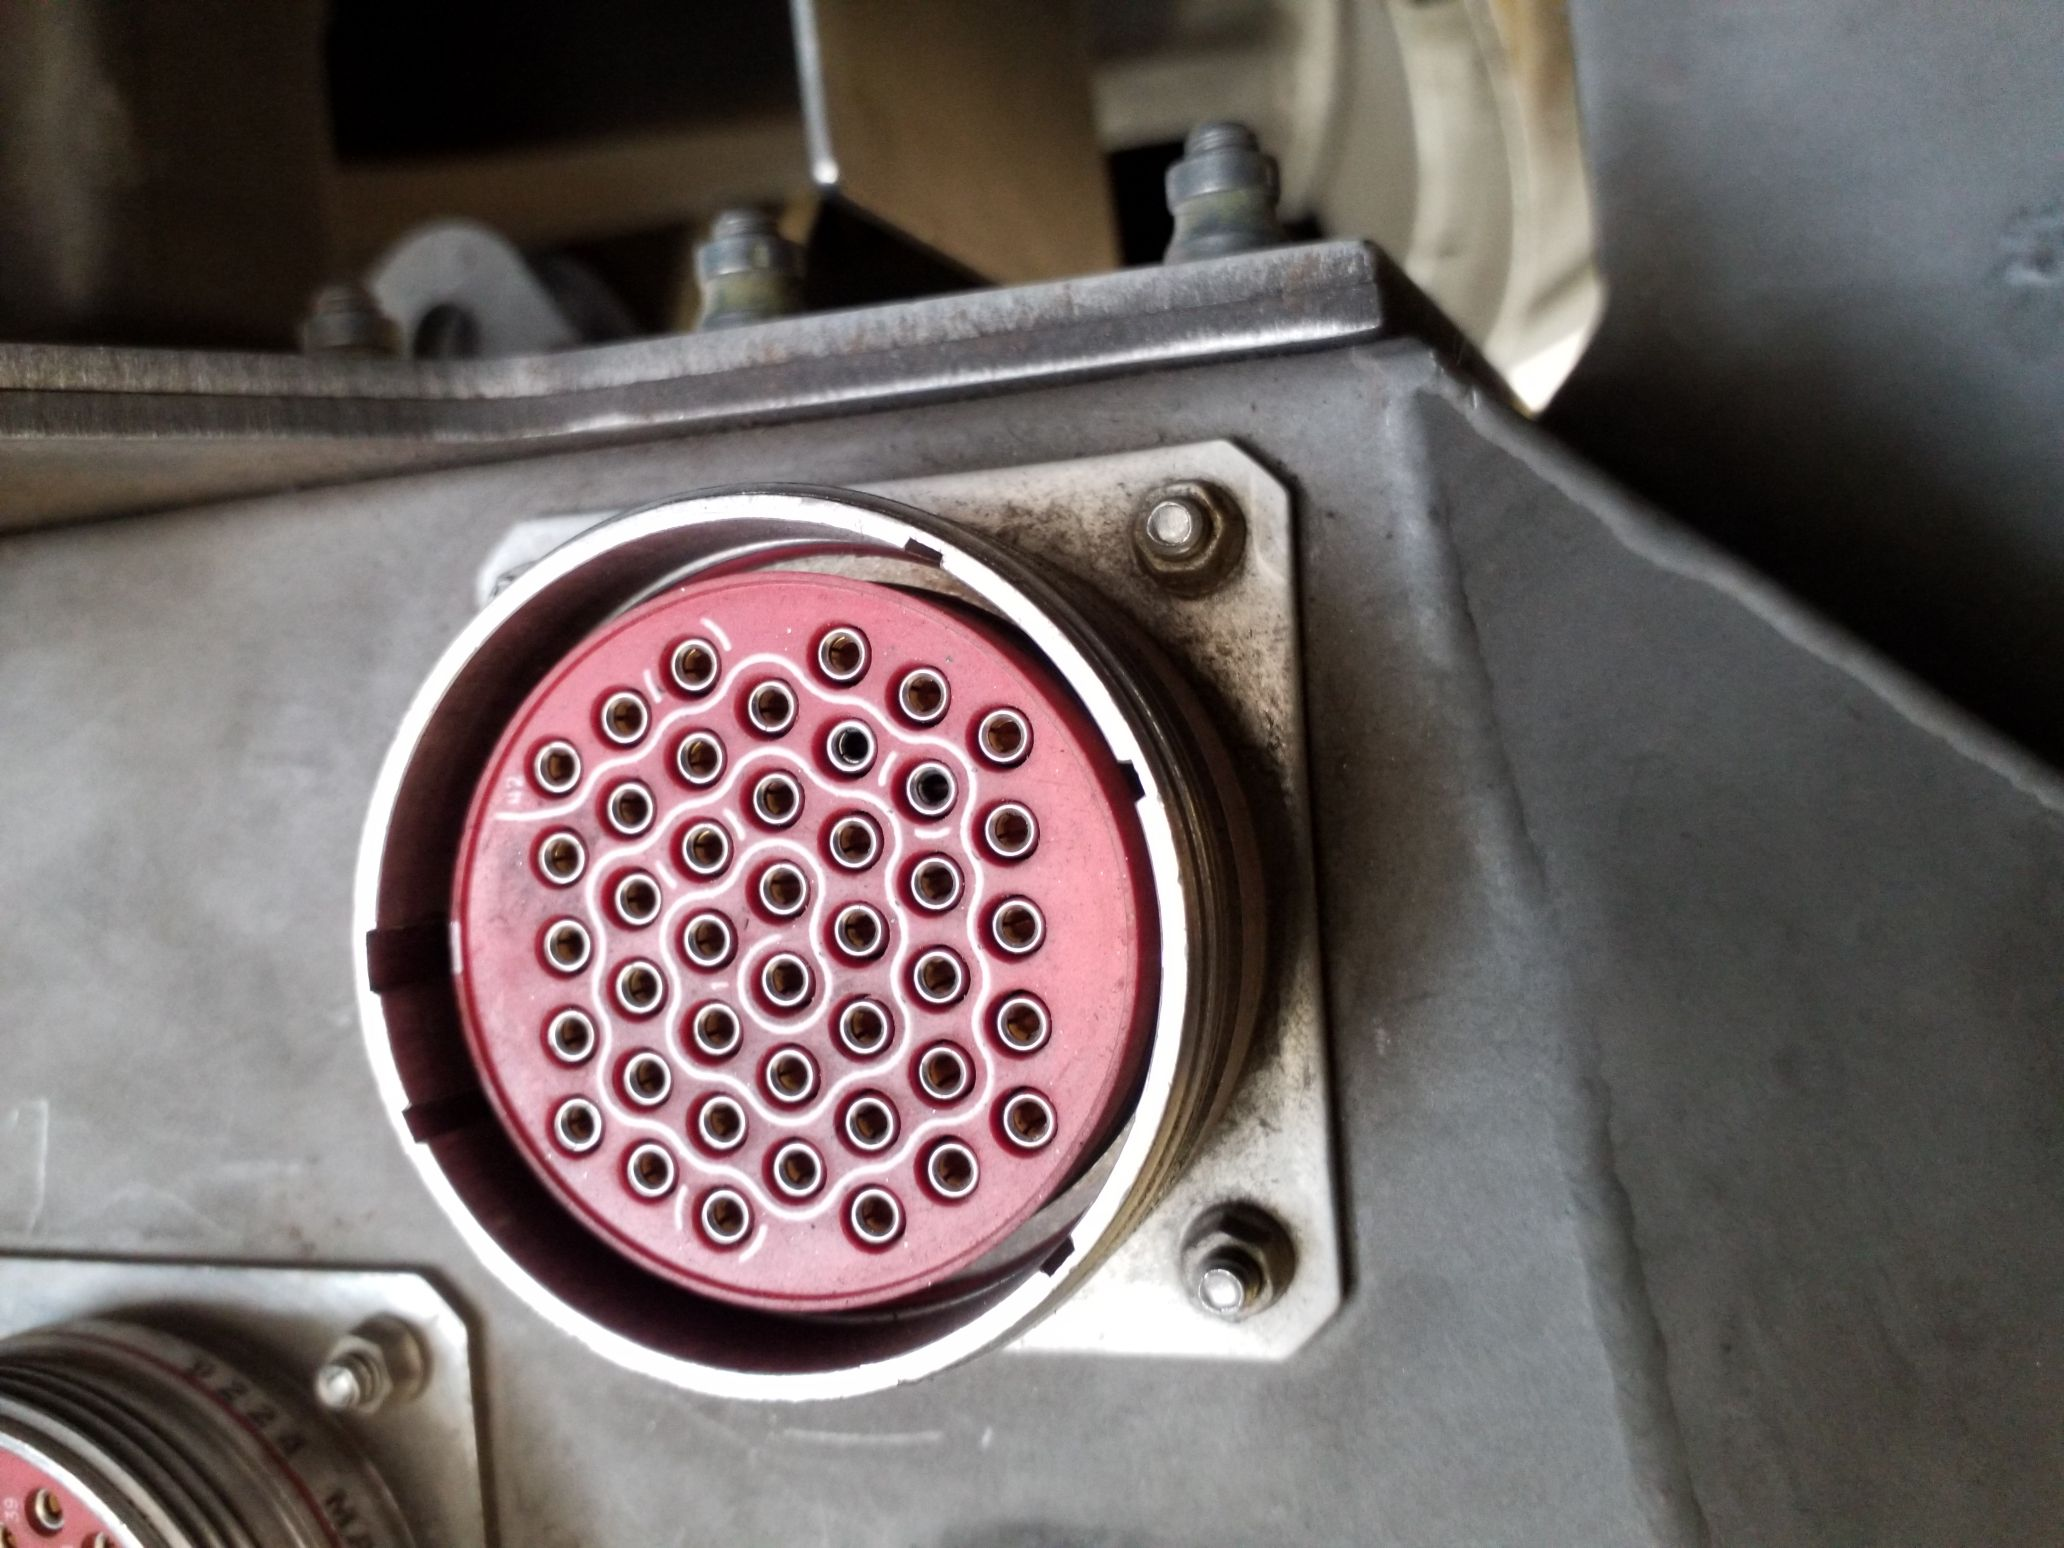inletround: (335, 459, 1211, 1407)
